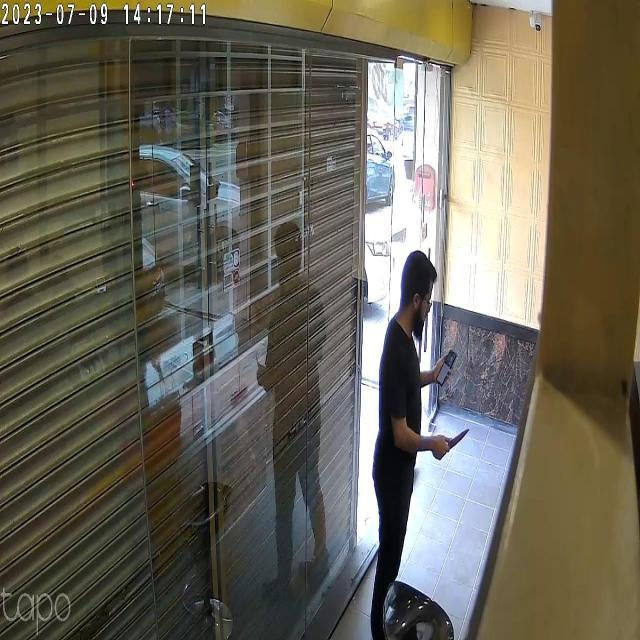Knife: (436, 424, 482, 464)
